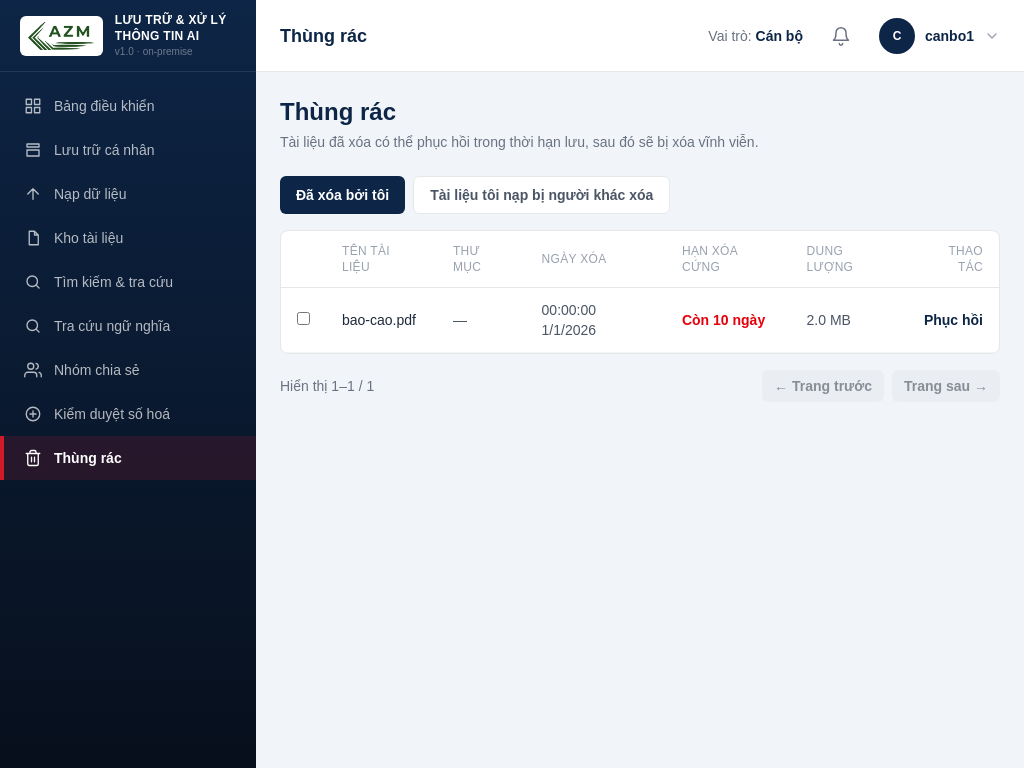
TrashPage › shows the "uploaded" empty-state copy when there are no items (AC-4)
Expected: the text "bao-cao.pdf" is shown, [326,288,437,352]
Click the button "Tài liệu tôi nạp bị người khác xóa": click(542, 195) [413,176,670,214]
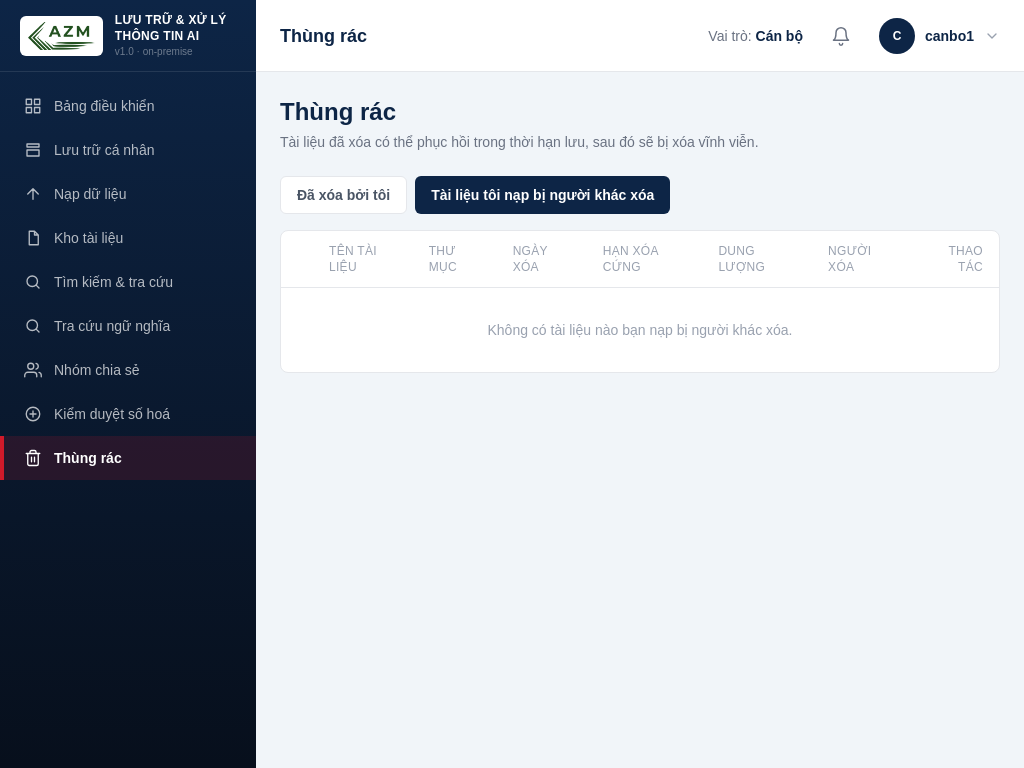
Expected: the text "Không có tài liệu nào bạn nạp bị người khác xóa." is shown, [281,288,999,372]
